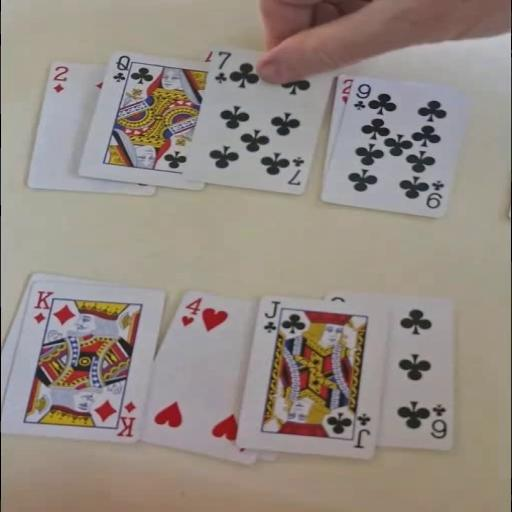2: (50, 64, 70, 94)
4: (178, 295, 204, 327)
6: (428, 402, 448, 439)
7: (211, 48, 233, 85), (284, 154, 306, 186)
9: (423, 178, 446, 209), (350, 81, 373, 111), (344, 78, 356, 108)
J: (351, 411, 373, 449), (260, 298, 282, 334)
K: (112, 398, 138, 438), (30, 288, 56, 325)
Q: (110, 54, 132, 84)
